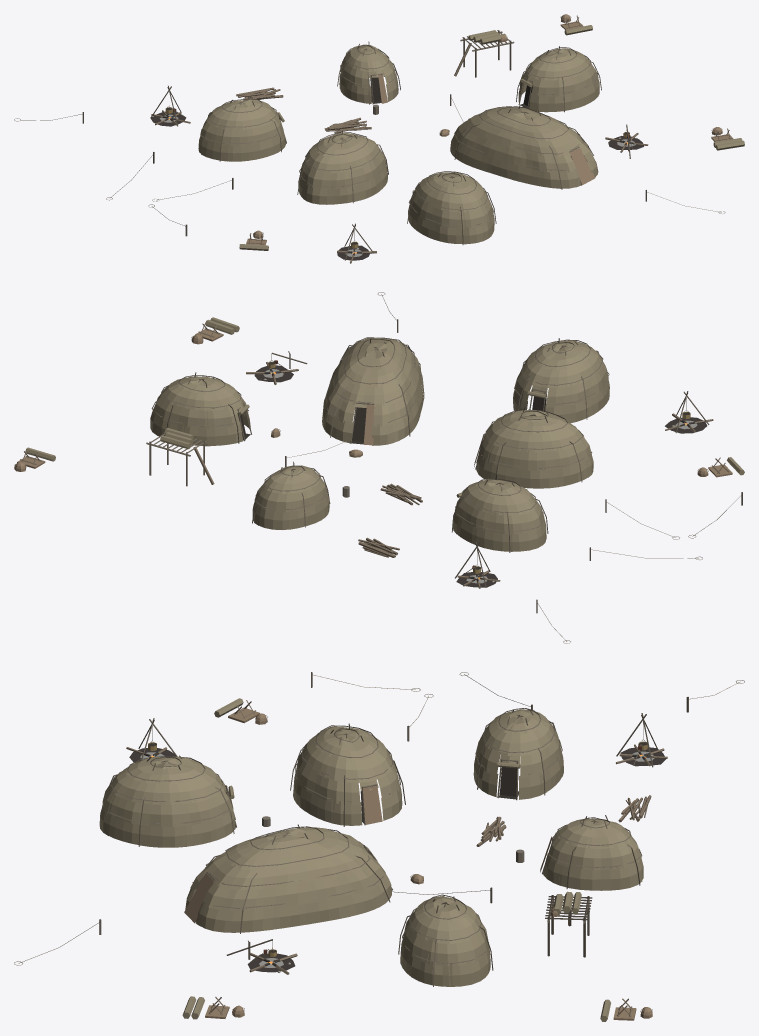
The model's file is potawatomi_camp_1812_north_flat__camp_1812.glb.
3 renders of one model, top to bottom at view 1: azimuth 30°, elevation 25°; view 2: azimuth 150°, elevation 25°; view 3: azimuth 270°, elevation 25°, orthographic. The views are drawn at different scales.
Visible parts, largest first — view 1: potawatomi_camp_1812_north_flat__camp_1812; view 2: potawatomi_camp_1812_north_flat__camp_1812; view 3: potawatomi_camp_1812_north_flat__camp_1812.
Part boxes in pixels (x1,y1,x2,y2): potawatomi_camp_1812_north_flat__camp_1812: (14, 14, 744, 263); potawatomi_camp_1812_north_flat__camp_1812: (14, 292, 744, 643); potawatomi_camp_1812_north_flat__camp_1812: (14, 672, 744, 1021).
Size of the model in its own units: 32.19 by 3.08 by 28.43.
